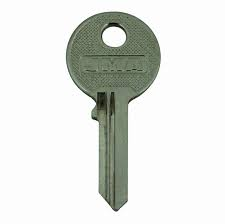kicharina: (63, 10, 163, 210)
